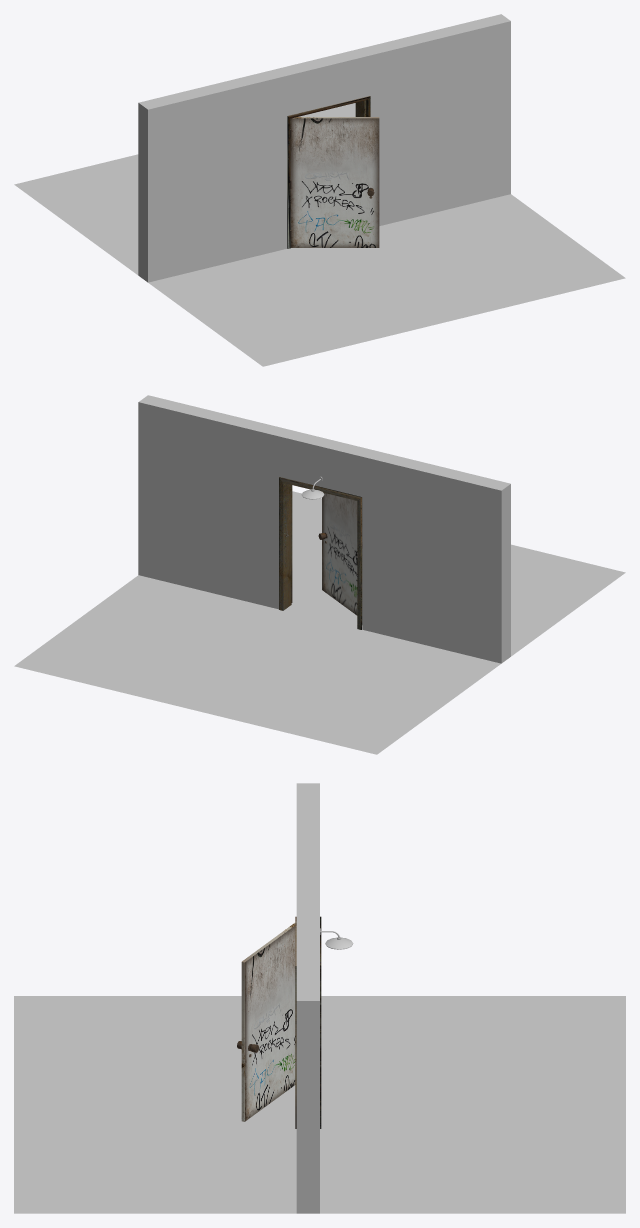
Rendered from ExampleScene.fbx.
3 views of the same model, one above another, from view 1: azimuth 30°, elevation 25°; view 2: azimuth 150°, elevation 25°; view 3: azimuth 270°, elevation 25° (orthographic). The views are drawn at different scales.
Parts seen in each view (by area): view 1: BrickWall, InsideFloor, Door, OutsideFloor; view 2: BrickWall, OutsideFloor, InsideFloor, Door; view 3: OutsideFloor, InsideFloor, BrickWall, Door.
Part boxes in pixels (x1,y1,x2,y2): BrickWall: (138,14,510,282); InsideFloor: (148,194,625,366); Door: (287,96,379,248); OutsideFloor: (14,103,355,274); BrickWall: (138,395,510,663); OutsideFloor: (14,575,500,754); InsideFloor: (284,491,625,656); Door: (279,477,362,629); OutsideFloor: (320,996,625,1213); InsideFloor: (14,996,296,1213); BrickWall: (296,783,319,1213); Door: (237,916,321,1128).
Size of the model in its own units: 659 by 300 by 783.
